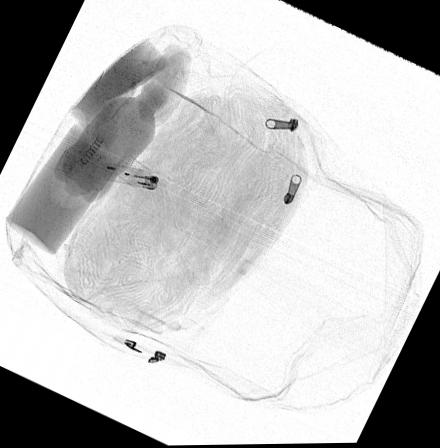Lighter: (105, 162, 160, 191)
